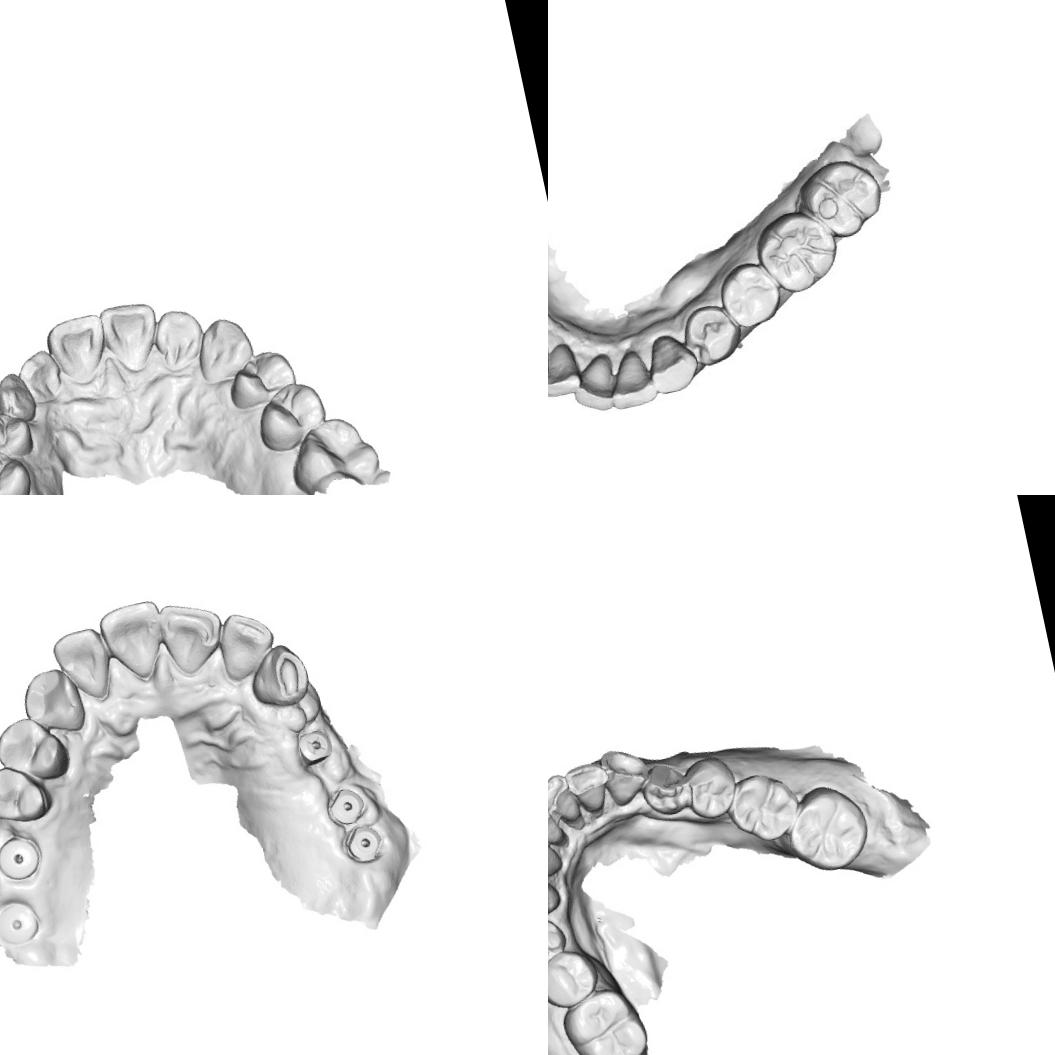canine: (16, 663, 89, 739), (189, 311, 259, 388), (244, 638, 316, 712), (640, 327, 704, 400), (596, 742, 657, 812), (0, 368, 40, 425), (548, 865, 567, 929)
implant: (0, 898, 42, 949), (342, 818, 386, 866), (0, 833, 40, 881), (326, 784, 367, 824)
implant_plus: (293, 726, 336, 771)
incisor: (95, 596, 174, 686), (156, 594, 228, 679), (47, 624, 118, 705), (97, 297, 165, 378), (42, 310, 112, 387), (210, 606, 280, 682), (150, 303, 210, 371), (568, 353, 628, 414), (11, 345, 69, 408), (560, 758, 617, 820), (605, 347, 660, 409), (548, 770, 586, 831), (548, 343, 583, 395), (548, 826, 568, 890), (548, 797, 569, 852)
molar: (778, 776, 878, 880), (793, 154, 892, 246), (281, 409, 384, 495), (754, 204, 846, 300), (556, 981, 656, 1055), (722, 765, 806, 850)
premolar: (250, 376, 333, 456), (0, 710, 73, 788), (224, 342, 300, 412), (722, 260, 783, 328), (682, 754, 742, 822), (548, 943, 603, 1014), (637, 754, 694, 821), (0, 758, 52, 831), (686, 302, 738, 366), (0, 399, 37, 463), (0, 437, 36, 495), (548, 914, 571, 970)
